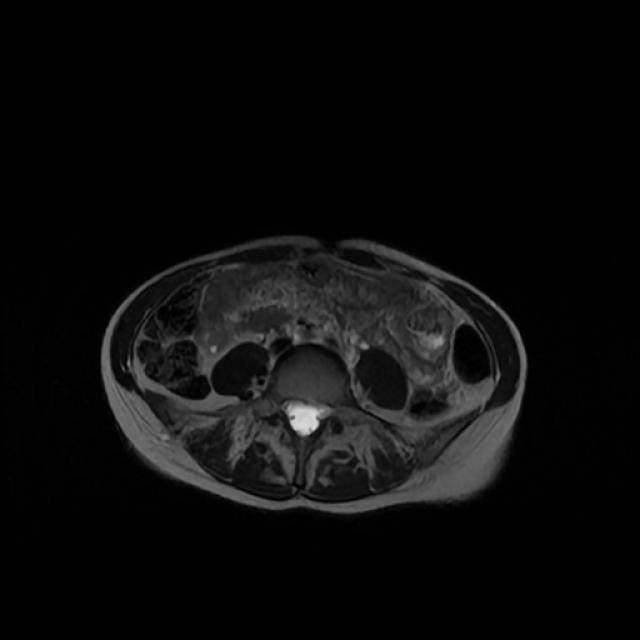sag: (199, 329, 228, 353)
